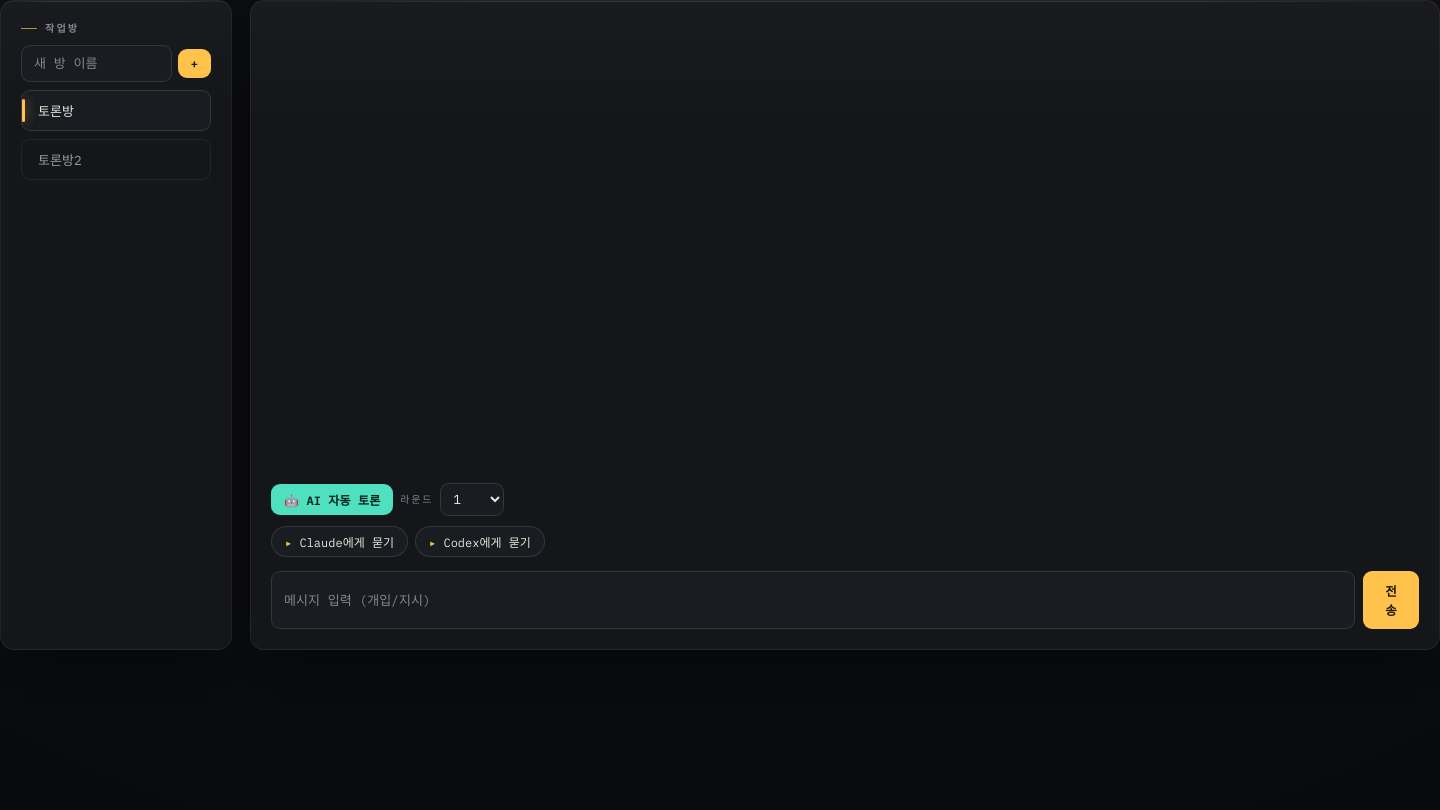
it: ChatPanel — 진행 상태 복원(단일 소스 오브 트루스) › 새 ask 는 활성 방 말풍선만 정리하고 다른 방의 진행 중 스트림은 보존한다
This screenshot has width=1440, height=810.
Expected: the button "🤖 AI 자동 토론" is shown, [271,484,393,515]
Click the button "Claude에게 묻기": (340, 542) [271,526,408,557]
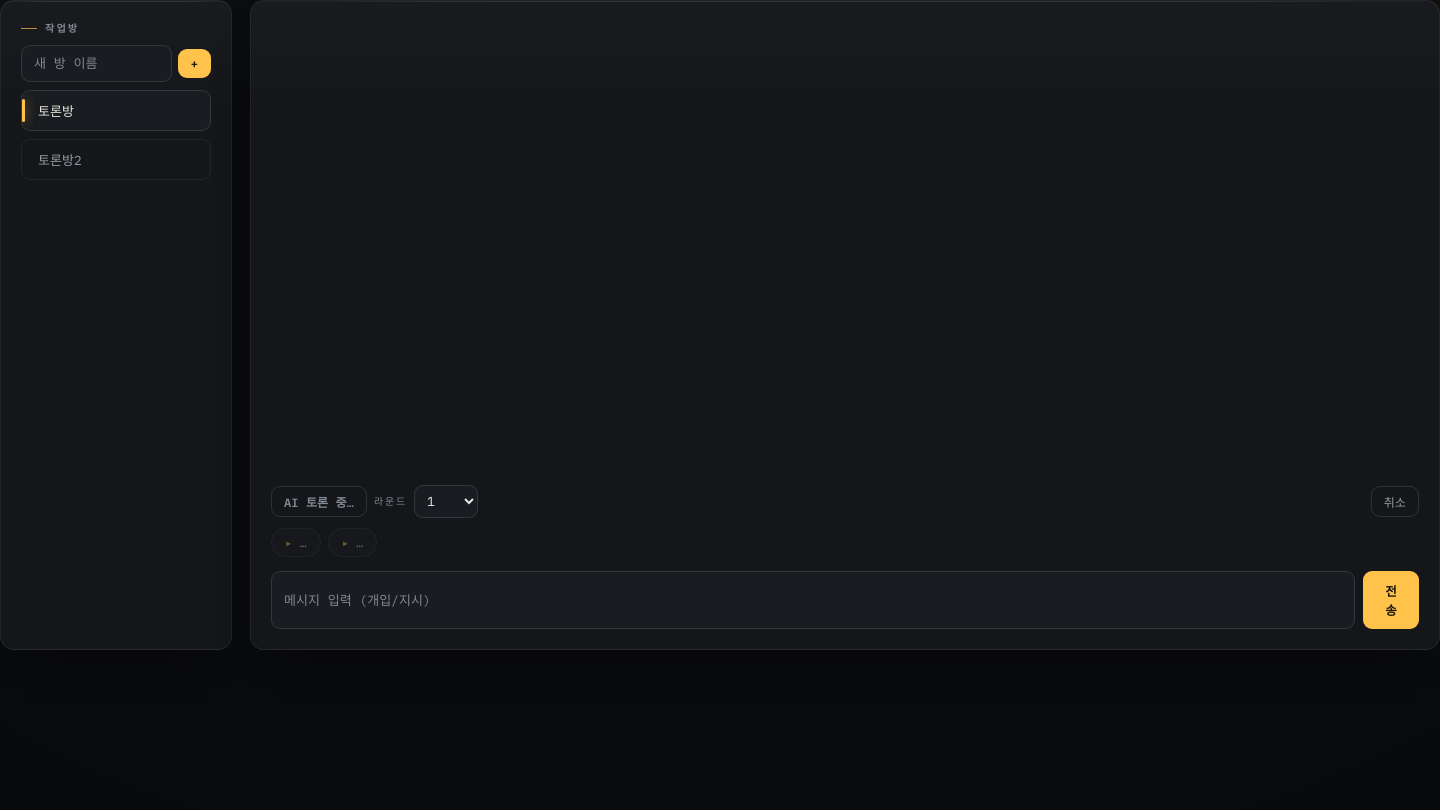
Click the button "토론방2": (116, 159) [21,138,211,180]
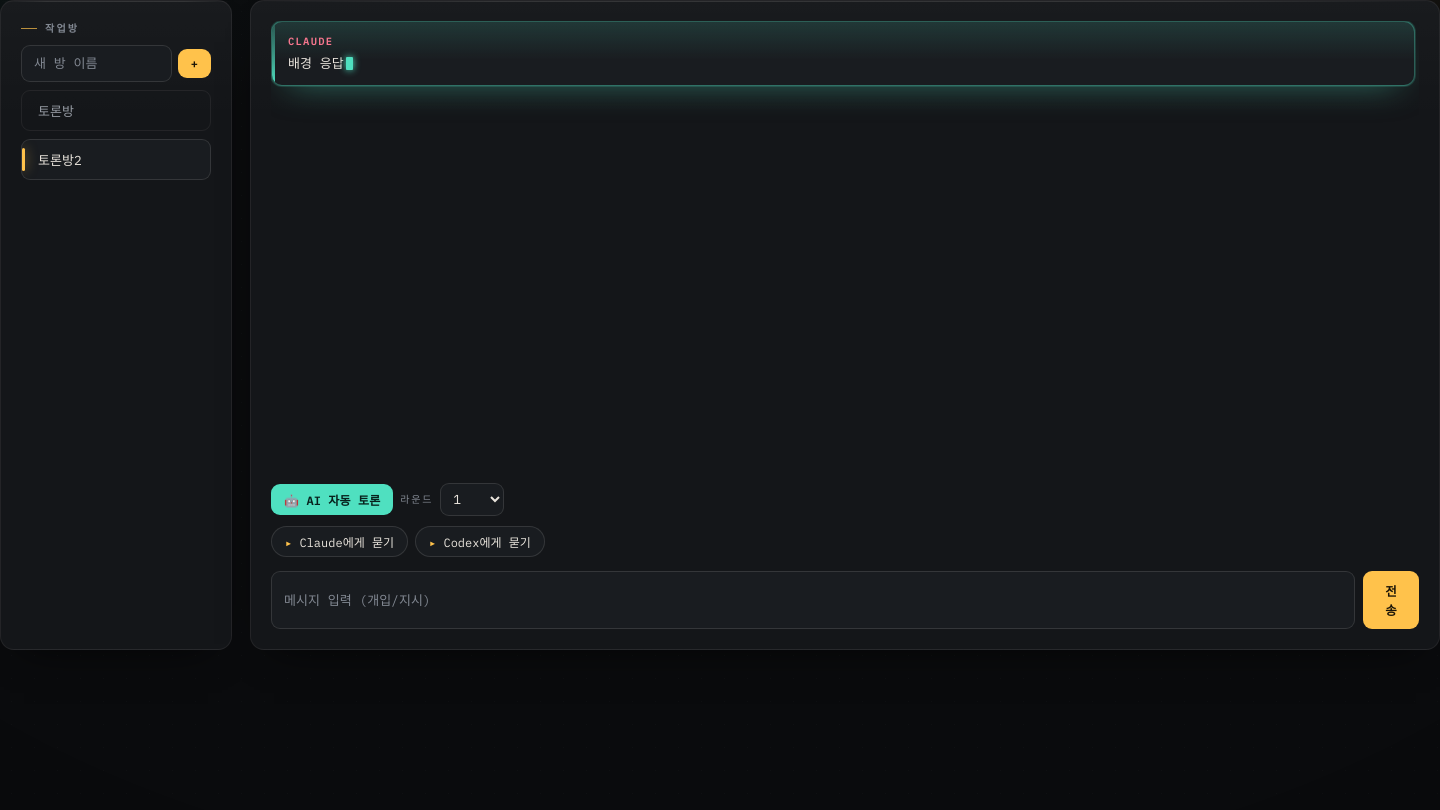
Expected: the text "배경 응답" is shown, [288,55,353,72]
